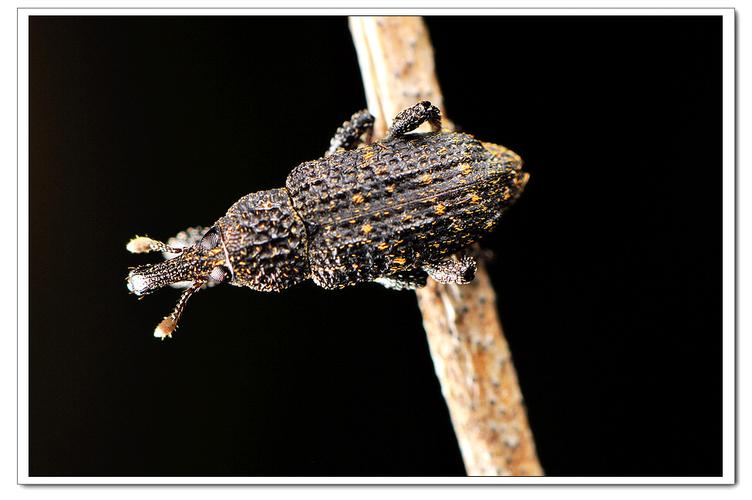Curculionidae: (125, 99, 530, 341)
